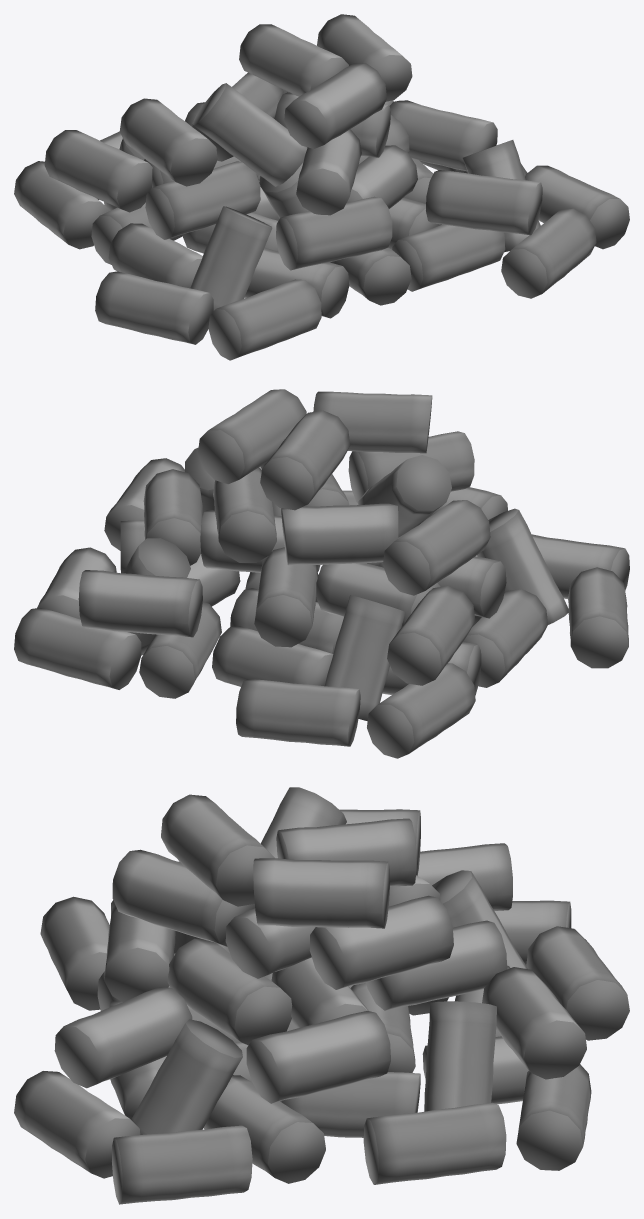
Rendered from Lithium.fbx.
3 renders of one model, top to bottom at view 1: azimuth 30°, elevation 25°; view 2: azimuth 150°, elevation 25°; view 3: azimuth 270°, elevation 25°, orthographic. The views are drawn at different scales.
Visible parts, largest first — view 1: Lithium; view 2: Lithium; view 3: Lithium.
Boxes of the visible parts, x1,y1,x2,y2 form: Lithium: (14, 14, 629, 360); Lithium: (14, 389, 629, 758); Lithium: (14, 787, 629, 1204).
Size of the model in its own units: 245 by 93.91 by 213.
